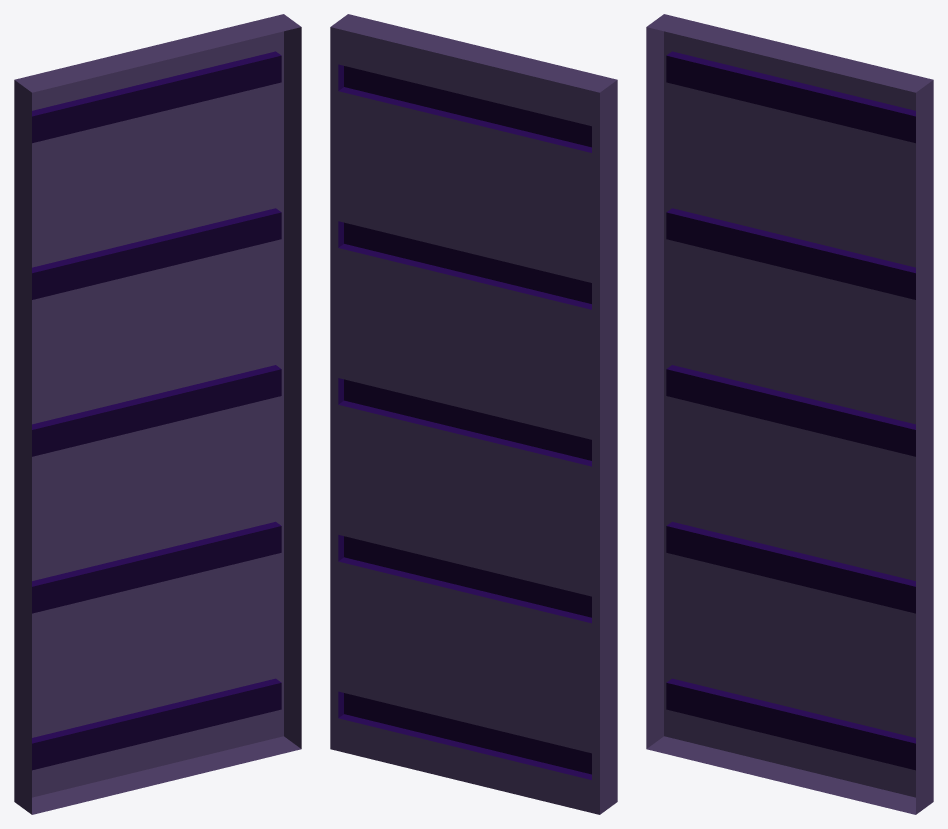
The model's file is WallGrid.fbx.
3 renders of one model, left to right at view 1: azimuth 30°, elevation 25°; view 2: azimuth 150°, elevation 25°; view 3: azimuth 330°, elevation 25°, orthographic.
Visible parts, largest first — view 1: Cube.001; view 2: Cube.001; view 3: Cube.001.
Part boxes in pixels (x1=…): Cube.001: x1=14, y1=14, x2=301, y2=814; Cube.001: x1=330, y1=14, x2=617, y2=814; Cube.001: x1=646, y1=14, x2=933, y2=814.
Bounding box in the file's own units: 399 × 1023 × 45.66.
